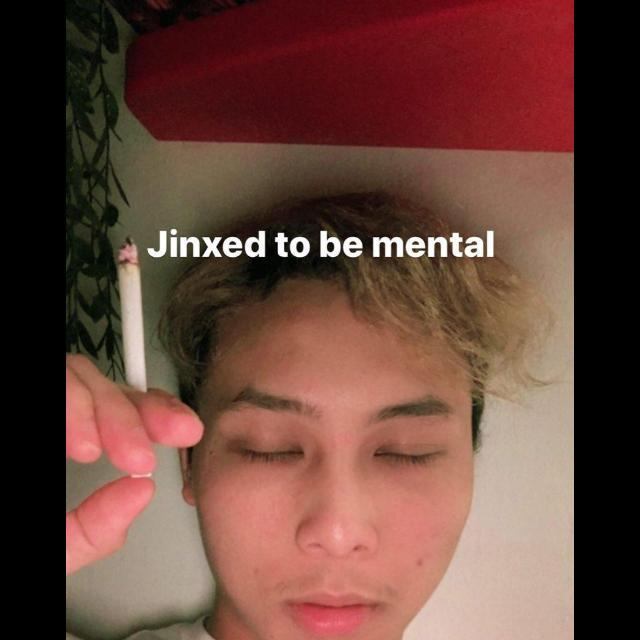rokok: (115, 235, 157, 480)
